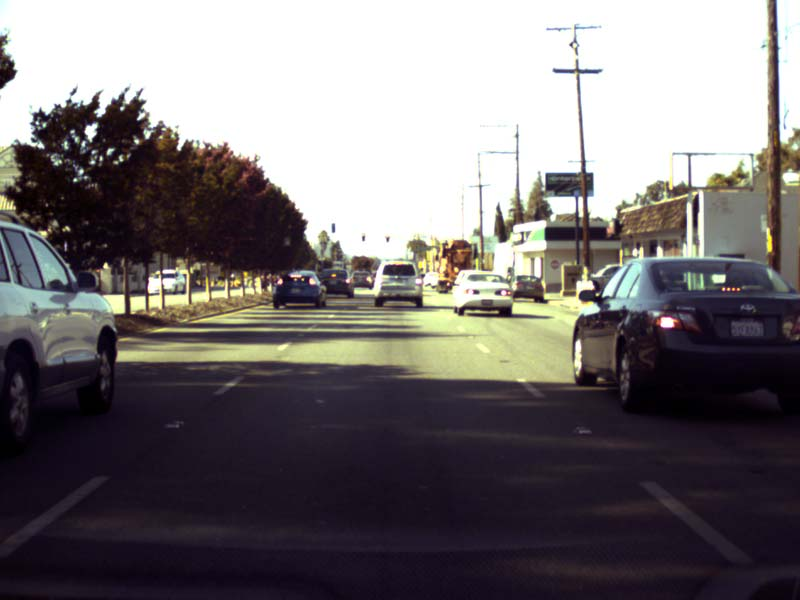Red: (361, 233, 365, 241), (385, 234, 389, 242)
